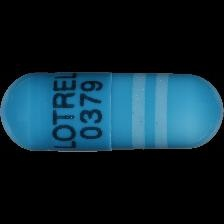55154-9668: (0, 0, 224, 224)
